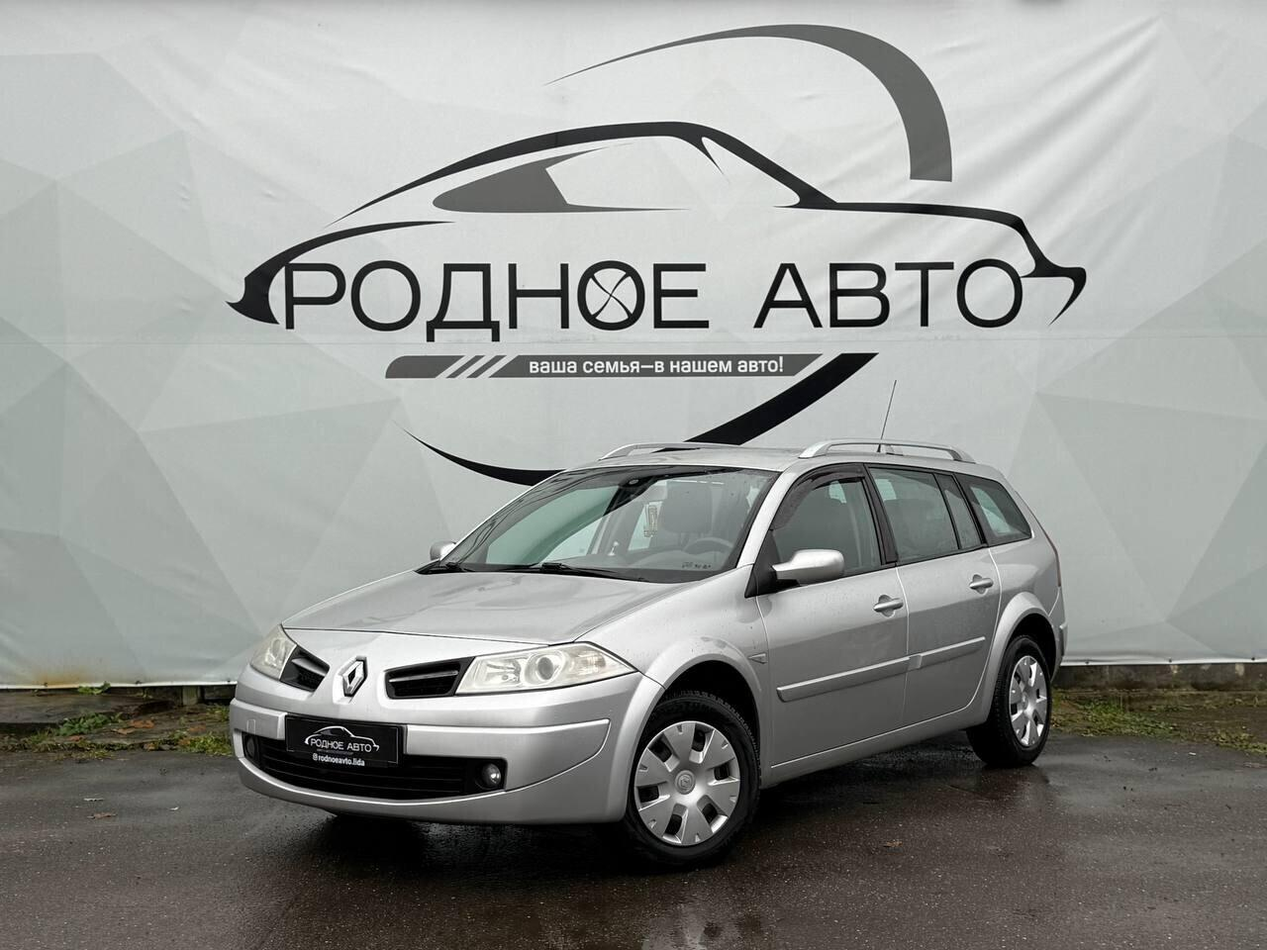Megane_2005-2009: (223, 438, 1067, 867)
